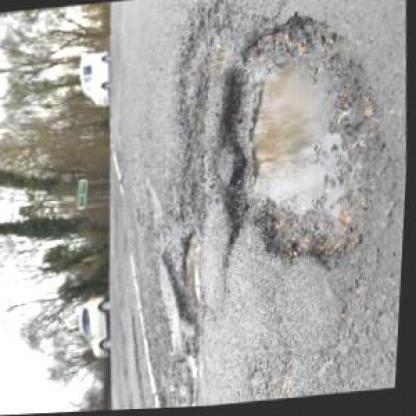pothole: (205, 7, 394, 273), (156, 229, 214, 327)
